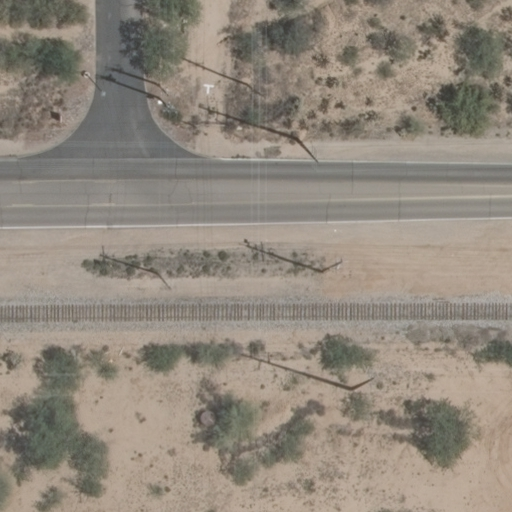DT: (292, 138, 321, 167), (156, 271, 183, 294), (247, 79, 269, 103), (352, 373, 381, 391), (322, 258, 348, 271)
